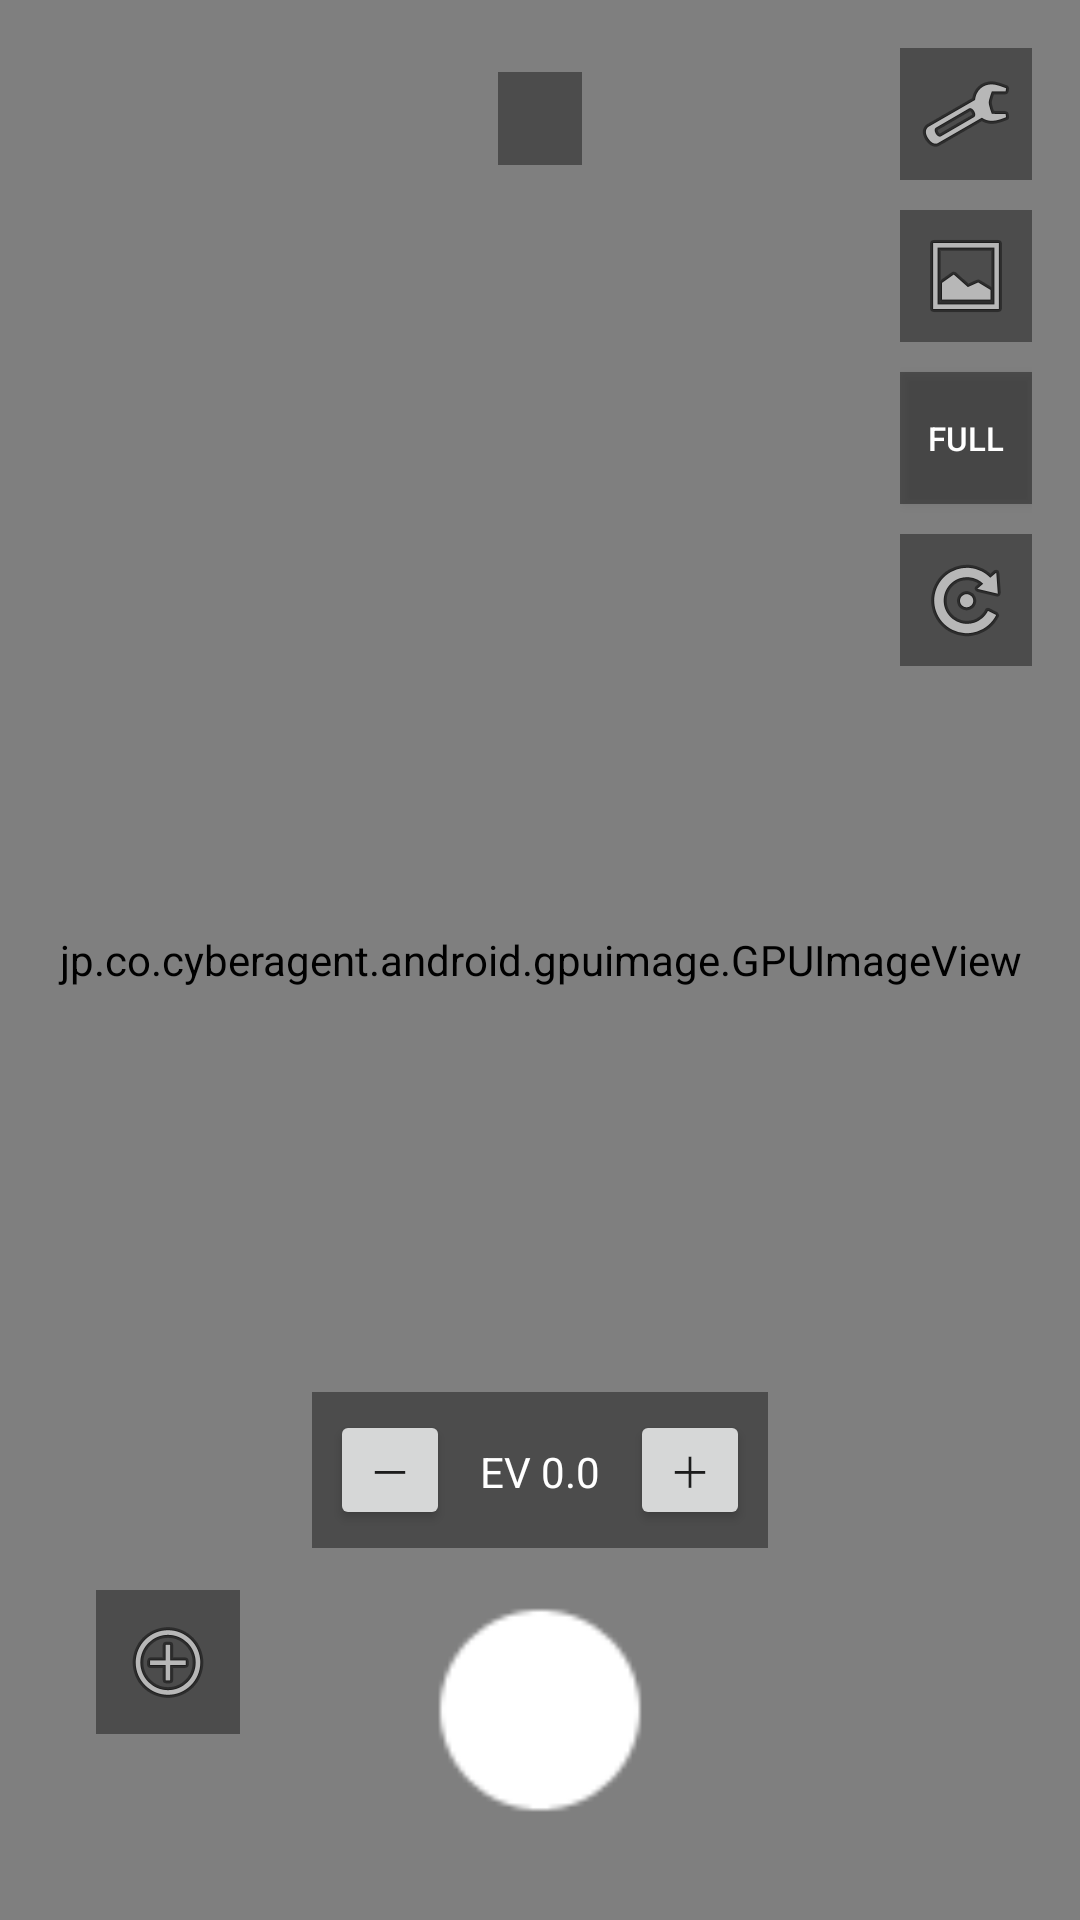

Icon click points for this 1080×1920 phone screenshot, format [x,y]:
갤러리: [966,276]
설정: [966,114]
카메라 전환: [966,600]
